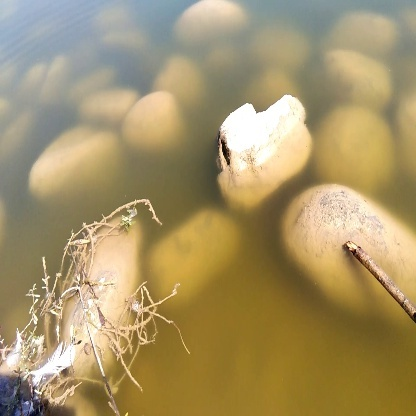branch: (342, 237, 416, 328)
